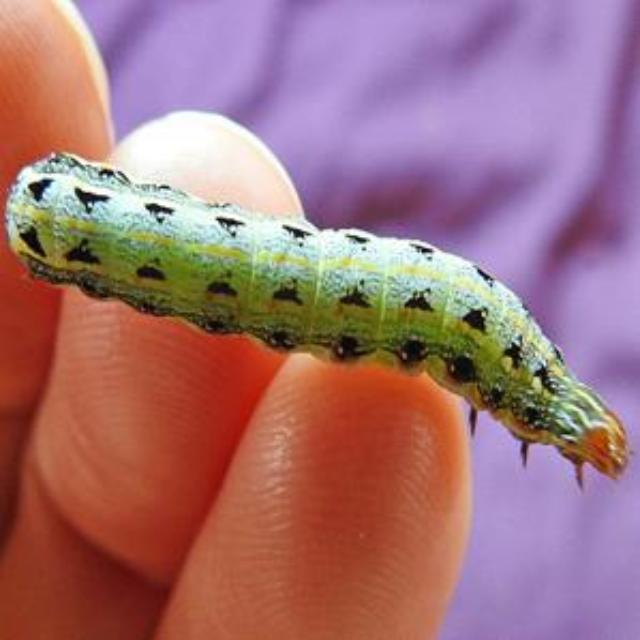Tobacco cutworm: (0, 109, 640, 536)
